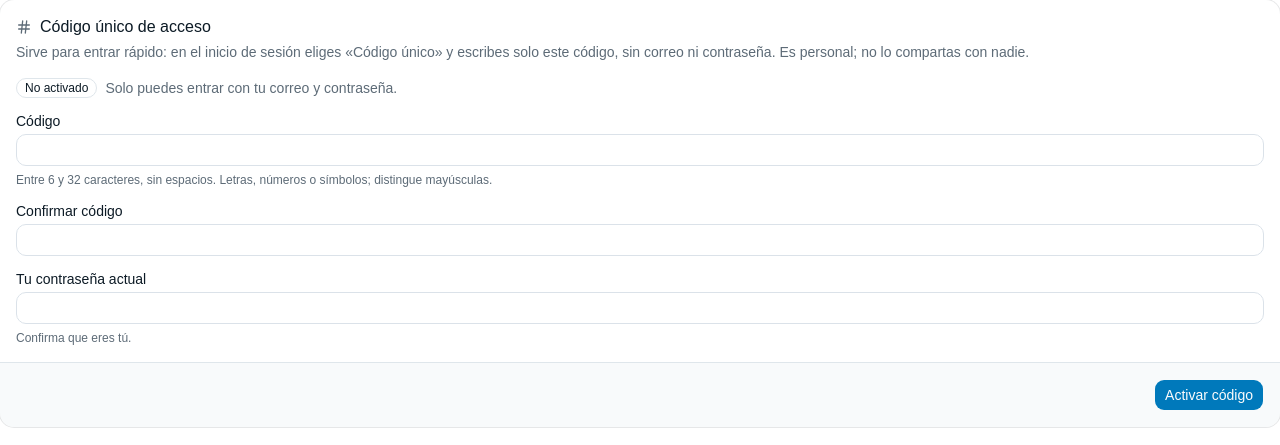
Test: CodigoAccesoForm › 409 CONFLICTO: el código lo usa otro usuario → error en el campo código
Expected: the text "No activado" is shown, [16, 78, 97, 98]
Step 1. Type "123456" into the password field labelled "Código" → (640, 150), box [16, 134, 1264, 166]
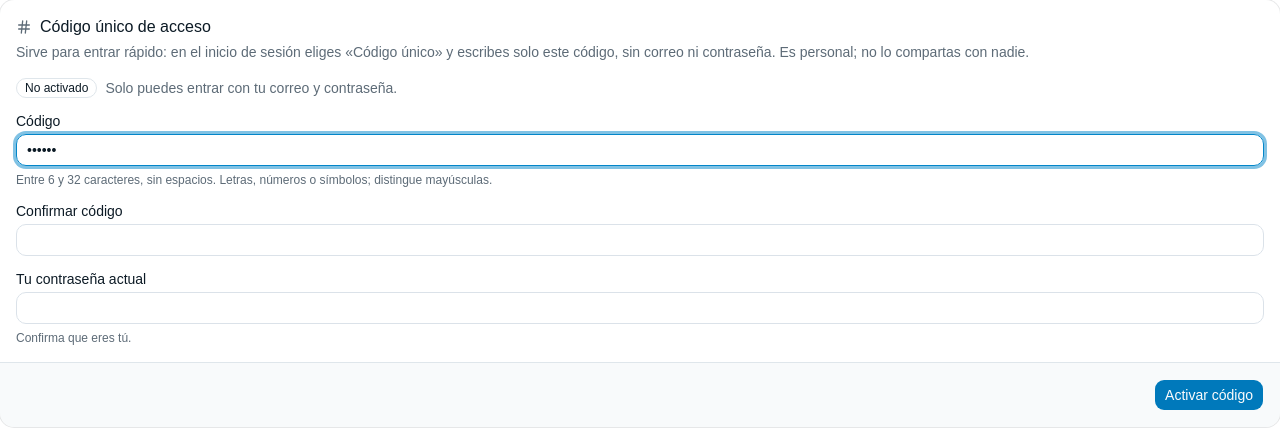
Step 2. Type "123456" into the password field labelled "Confirmar código" → (640, 240), box [16, 224, 1264, 256]
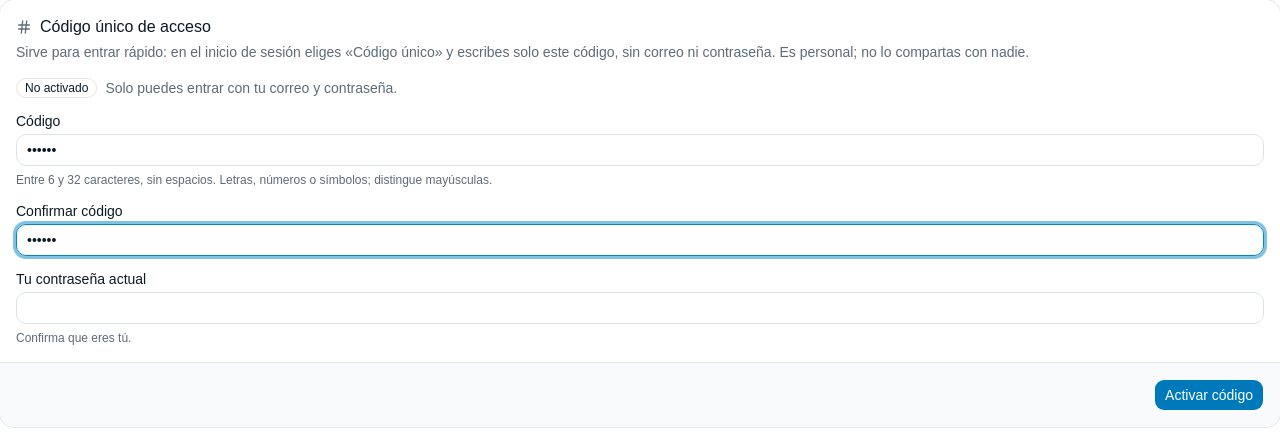
Step 3. Type "Repartidor123!" into the password field labelled "Tu contraseña actual" → (640, 308), box [16, 292, 1264, 324]
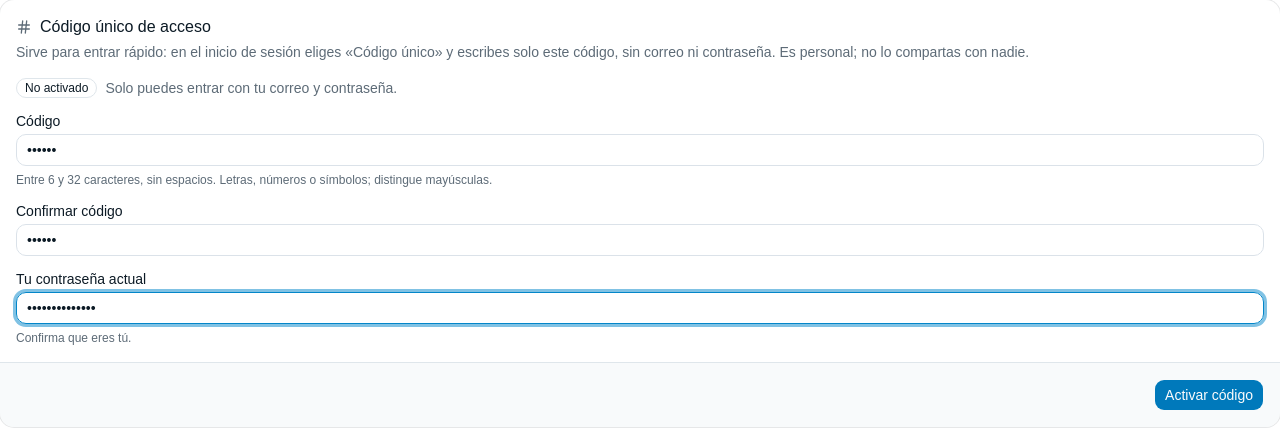
Step 4. Click the button "Activar código" → (1209, 395), box [1154, 379, 1264, 411]
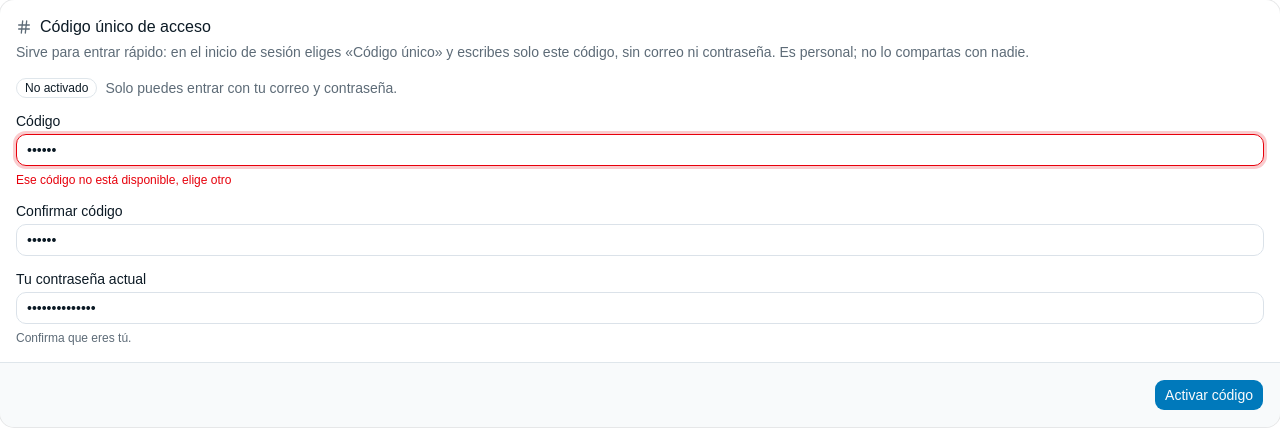
Expected: the text "Ese código no está disponible, elige otro" is shown, [16, 173, 232, 187]
